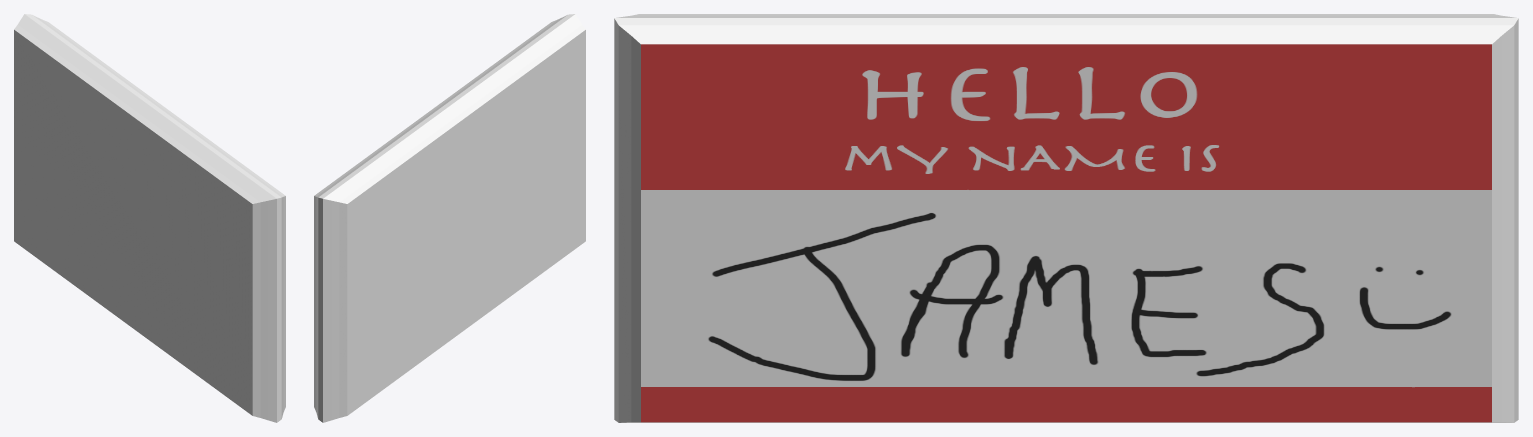
The model's file is name_tag.fbx.
3 views of the same model, side by side, from view 1: azimuth 30°, elevation 25°; view 2: azimuth 150°, elevation 25°; view 3: azimuth 270°, elevation 25° (orthographic). The views are drawn at different scales.
Parts seen in each view (by area): view 1: Cube; view 2: Cube; view 3: Cube.
Part boxes in pixels (x1=…): Cube: x1=14, y1=14, x2=285, y2=422; Cube: x1=314, y1=14, x2=585, y2=422; Cube: x1=614, y1=14, x2=1518, y2=422.
Bounding box in the file's own units: 31.69 × 200 × 408.
